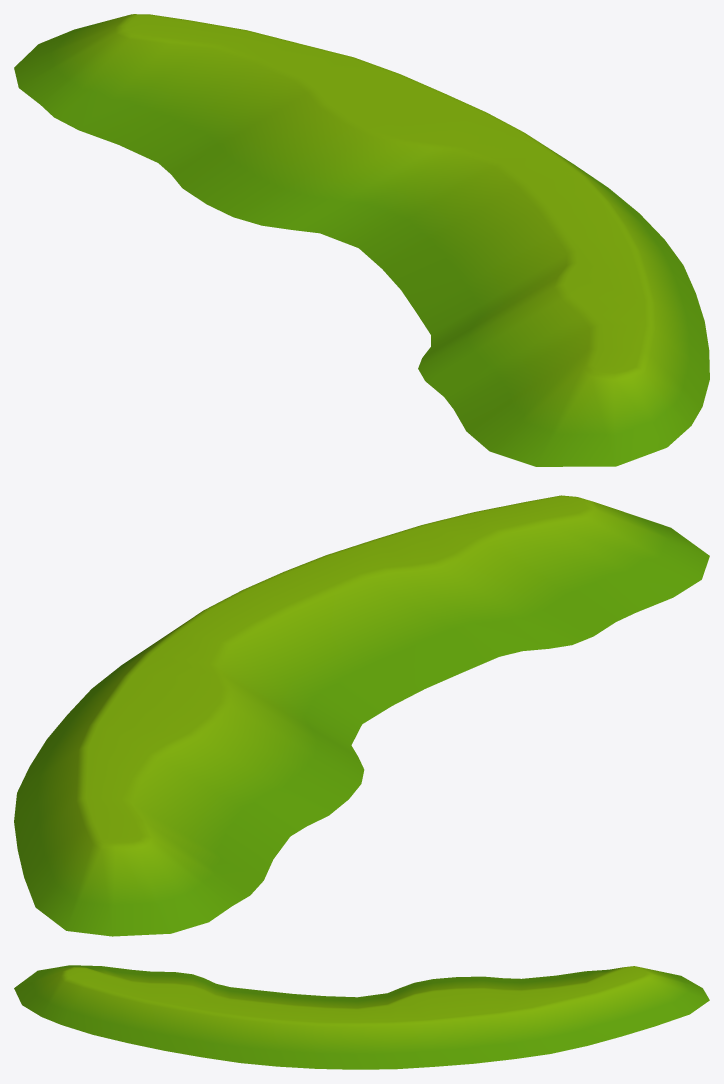
File: RiverA02Bank02.fbx
3 renders of one model, top to bottom at view 1: azimuth 30°, elevation 25°; view 2: azimuth 150°, elevation 25°; view 3: azimuth 270°, elevation 25°, orthographic. The views are drawn at different scales.
Parts seen in each view (by area): view 1: LOD0; view 2: LOD0; view 3: LOD0.
Boxes of the visible parts, box(x1,y1,x2,y2) form: LOD0: box(14, 14, 709, 466); LOD0: box(14, 495, 709, 936); LOD0: box(14, 965, 709, 1069).
Size of what is drawn, in the model's own units: 869 by 2442 by 115.
